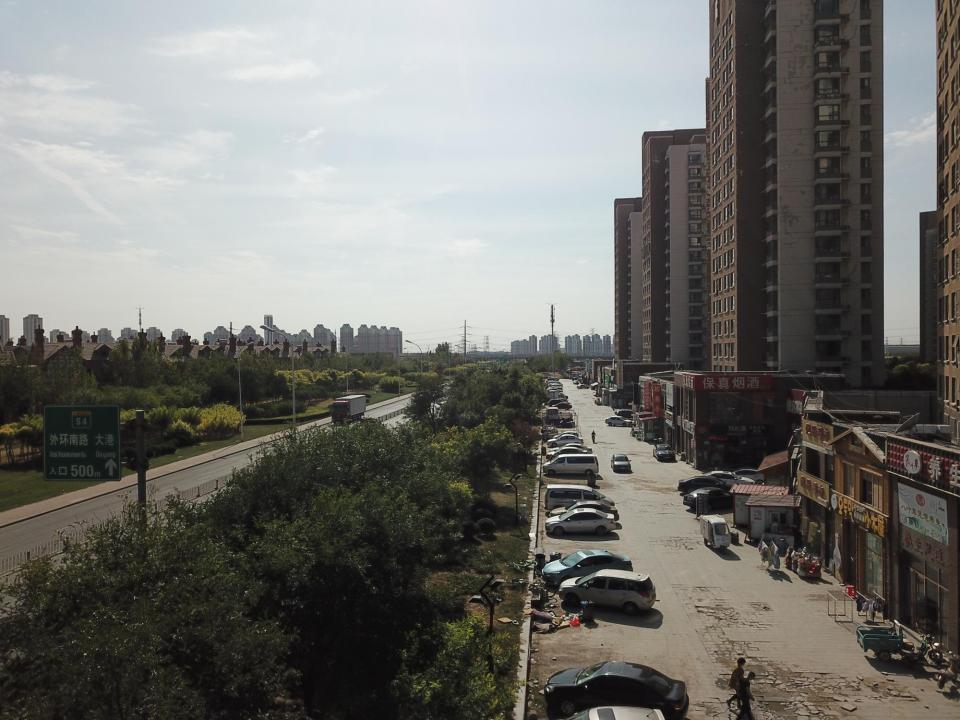car: (544, 660, 690, 719), (558, 569, 656, 615), (542, 549, 634, 586), (545, 508, 616, 536), (548, 500, 620, 522), (683, 486, 741, 512), (678, 476, 748, 494), (695, 470, 756, 490), (722, 468, 771, 485), (715, 464, 758, 480), (546, 446, 588, 461), (548, 443, 592, 457), (546, 434, 584, 446), (611, 453, 632, 472), (653, 444, 676, 461), (552, 431, 579, 441), (605, 416, 632, 426), (617, 409, 641, 419), (547, 399, 569, 407), (552, 402, 572, 410), (576, 384, 590, 389), (573, 380, 579, 384)
truck: (330, 394, 366, 426)
van: (543, 483, 617, 512), (542, 454, 599, 476), (572, 376, 578, 380)
